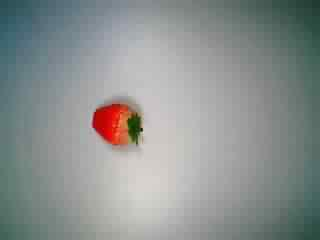strawberry: (83, 96, 149, 158)
